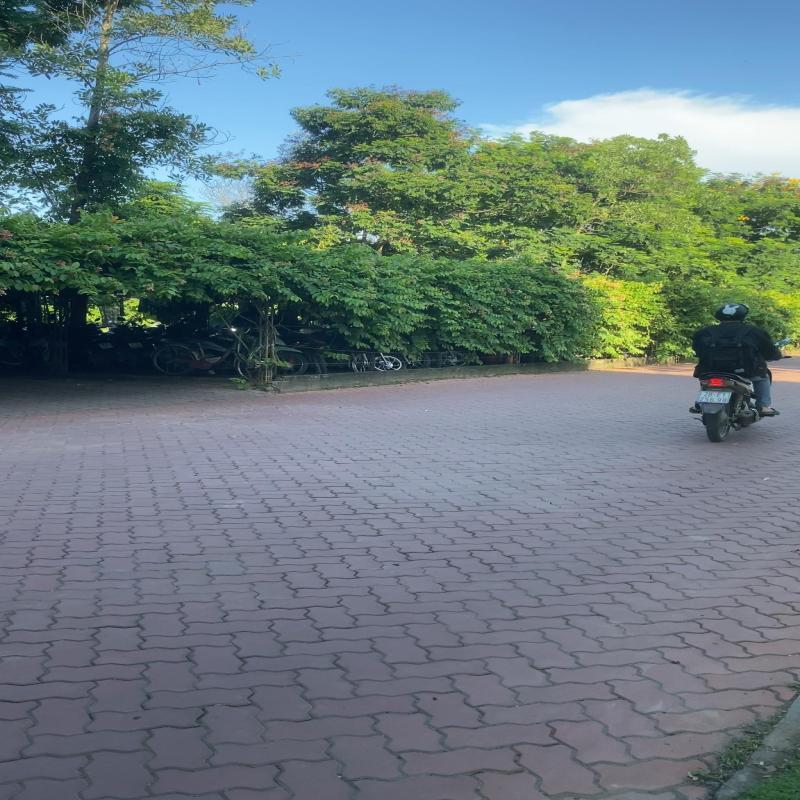helmet: (714, 303, 750, 323)
licenseplate: (696, 390, 732, 404)
motorcyclist: (682, 301, 796, 446)
